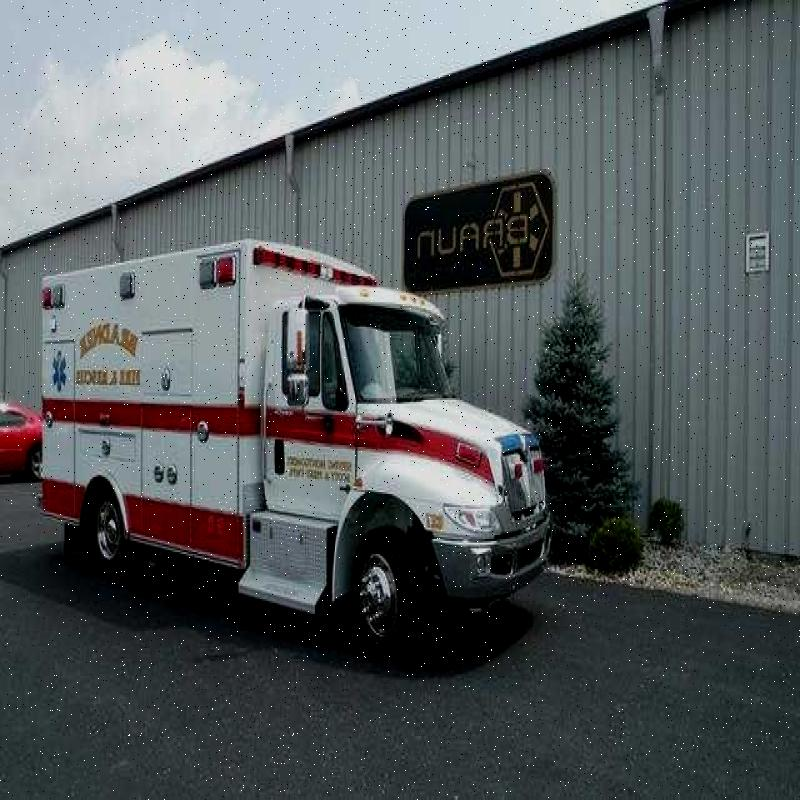AmbulanceSiren: (258, 235, 382, 290), (190, 246, 240, 295), (31, 270, 69, 329)
